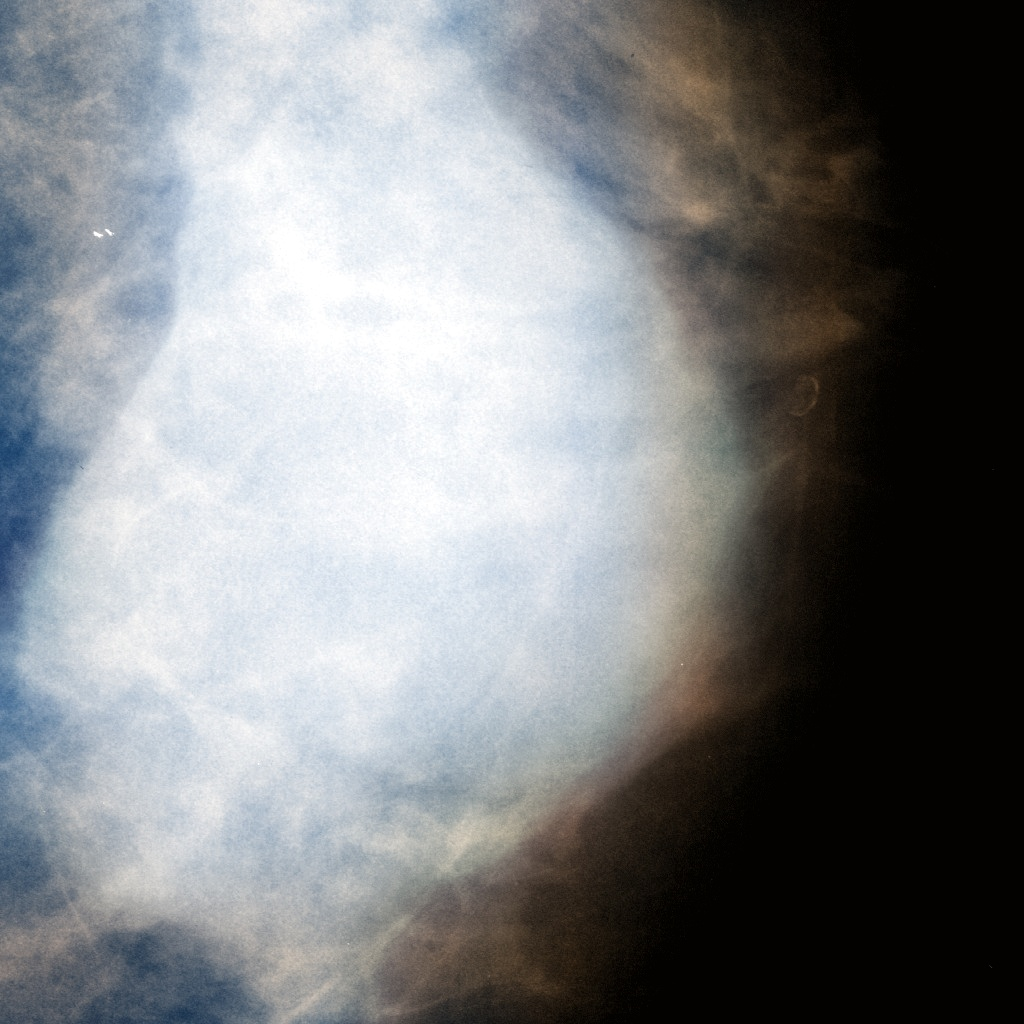tumor: (232, 154, 792, 870)
